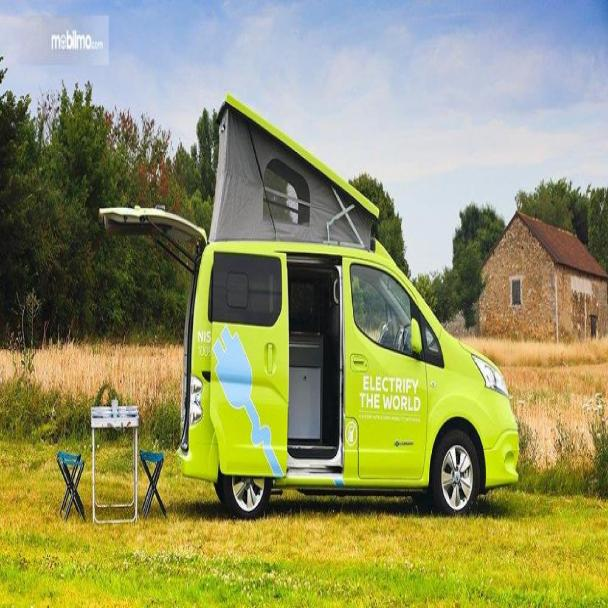Mobil: (181, 233, 520, 506)
